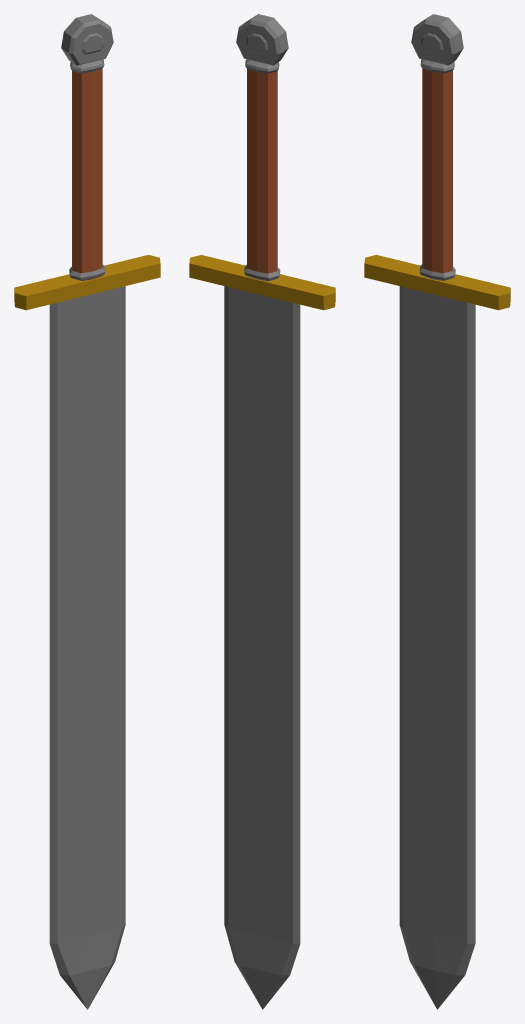
File: Prop_Fantasy_Weapon_Broad_Sword_01.FBX
3 renders of one model, left to right at view 1: azimuth 30°, elevation 25°; view 2: azimuth 150°, elevation 25°; view 3: azimuth 330°, elevation 25°, orthographic.
Parts seen in each view (by area): view 1: Prop_Fantasy_Weapon_Broad_Sword_01; view 2: Prop_Fantasy_Weapon_Broad_Sword_01; view 3: Prop_Fantasy_Weapon_Broad_Sword_01.
Part boxes in pixels (x1,y1,x2,y2): Prop_Fantasy_Weapon_Broad_Sword_01: (14, 14, 160, 1009); Prop_Fantasy_Weapon_Broad_Sword_01: (189, 14, 335, 1009); Prop_Fantasy_Weapon_Broad_Sword_01: (364, 14, 510, 1009).
Bounding box in the file's own units: 240 × 1565 × 37.13.
